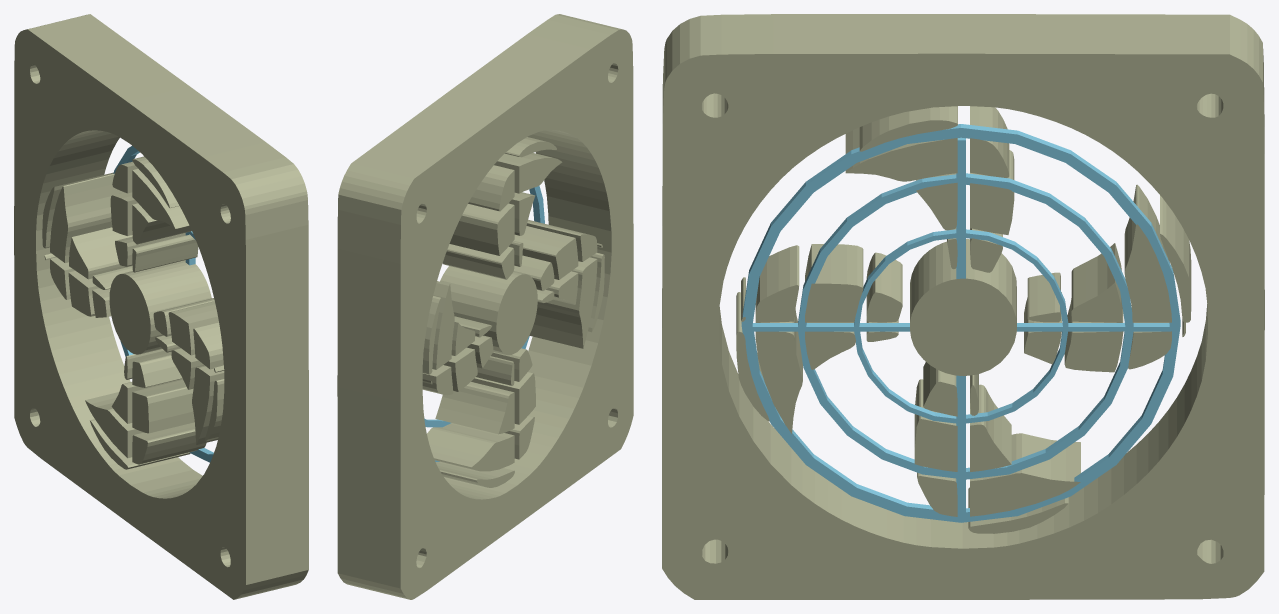
The model's file is fan.fbx.
3 renders of one model, left to right at view 1: azimuth 30°, elevation 25°; view 2: azimuth 150°, elevation 25°; view 3: azimuth 270°, elevation 25°, orthographic. The views are drawn at different scales.
Parts seen in each view (by area): view 1: obj_0; view 2: obj_0; view 3: obj_0.
Part boxes in pixels (x1,y1,x2,y2): obj_0: [14, 14, 308, 599]; obj_0: [337, 14, 633, 599]; obj_0: [662, 14, 1264, 599].
Size of the model in its own units: 0.254 by 1.63 by 1.63.
